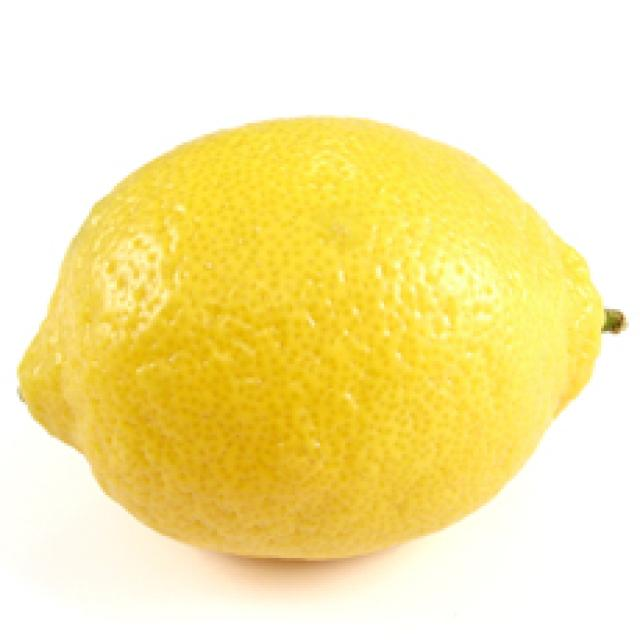lemon: (22, 110, 631, 578)
